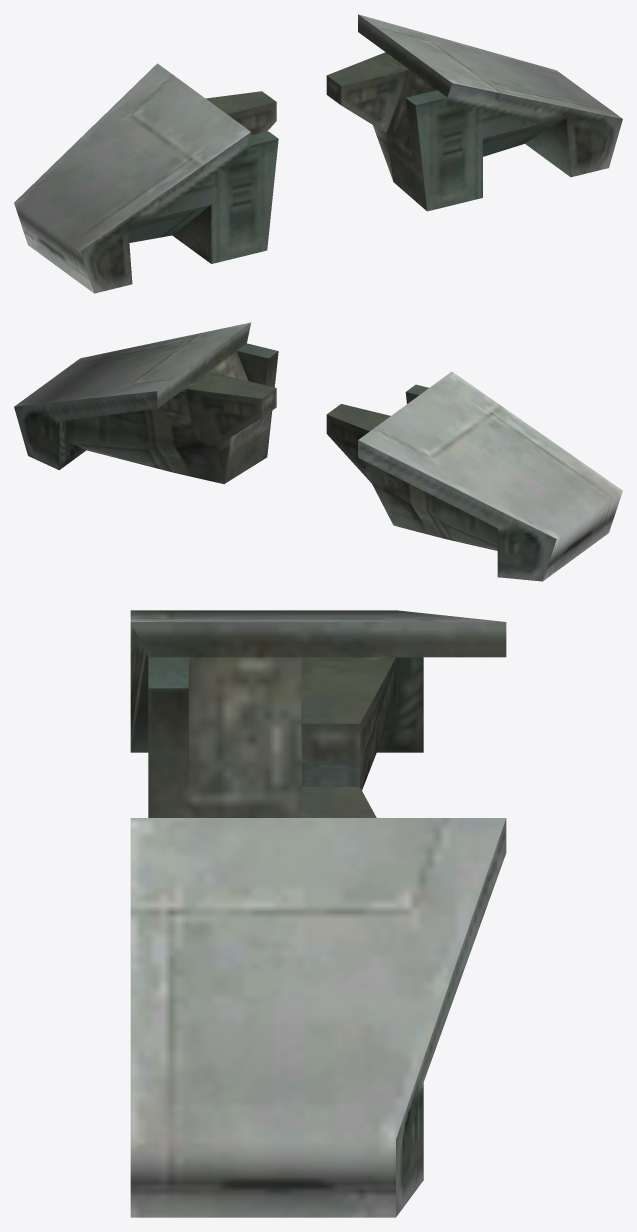
File: black_sun_fighter_light_struct_s01_l2.fbx
3 views of the same model, one above another, from view 1: azimuth 30°, elevation 25°; view 2: azimuth 150°, elevation 25°; view 3: azimuth 270°, elevation 25° (orthographic). The views are drawn at different scales.
Parts seen in each view (by area): view 1: mesh_node; view 2: mesh_node; view 3: mesh_node.
Part boxes in pixels (x1=…): mesh_node: x1=14, y1=14, x2=622, y2=293; mesh_node: x1=14, y1=322, x2=622, y2=581; mesh_node: x1=130, y1=610, x2=506, y2=1217.
Bounding box in the file's own units: 12.29 × 2.74 × 3.68.
